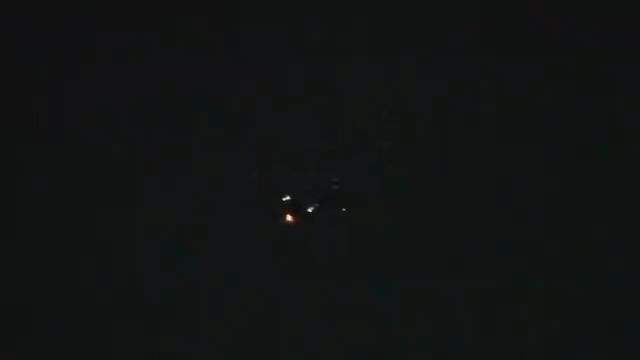Plane: (220, 179, 396, 239)
